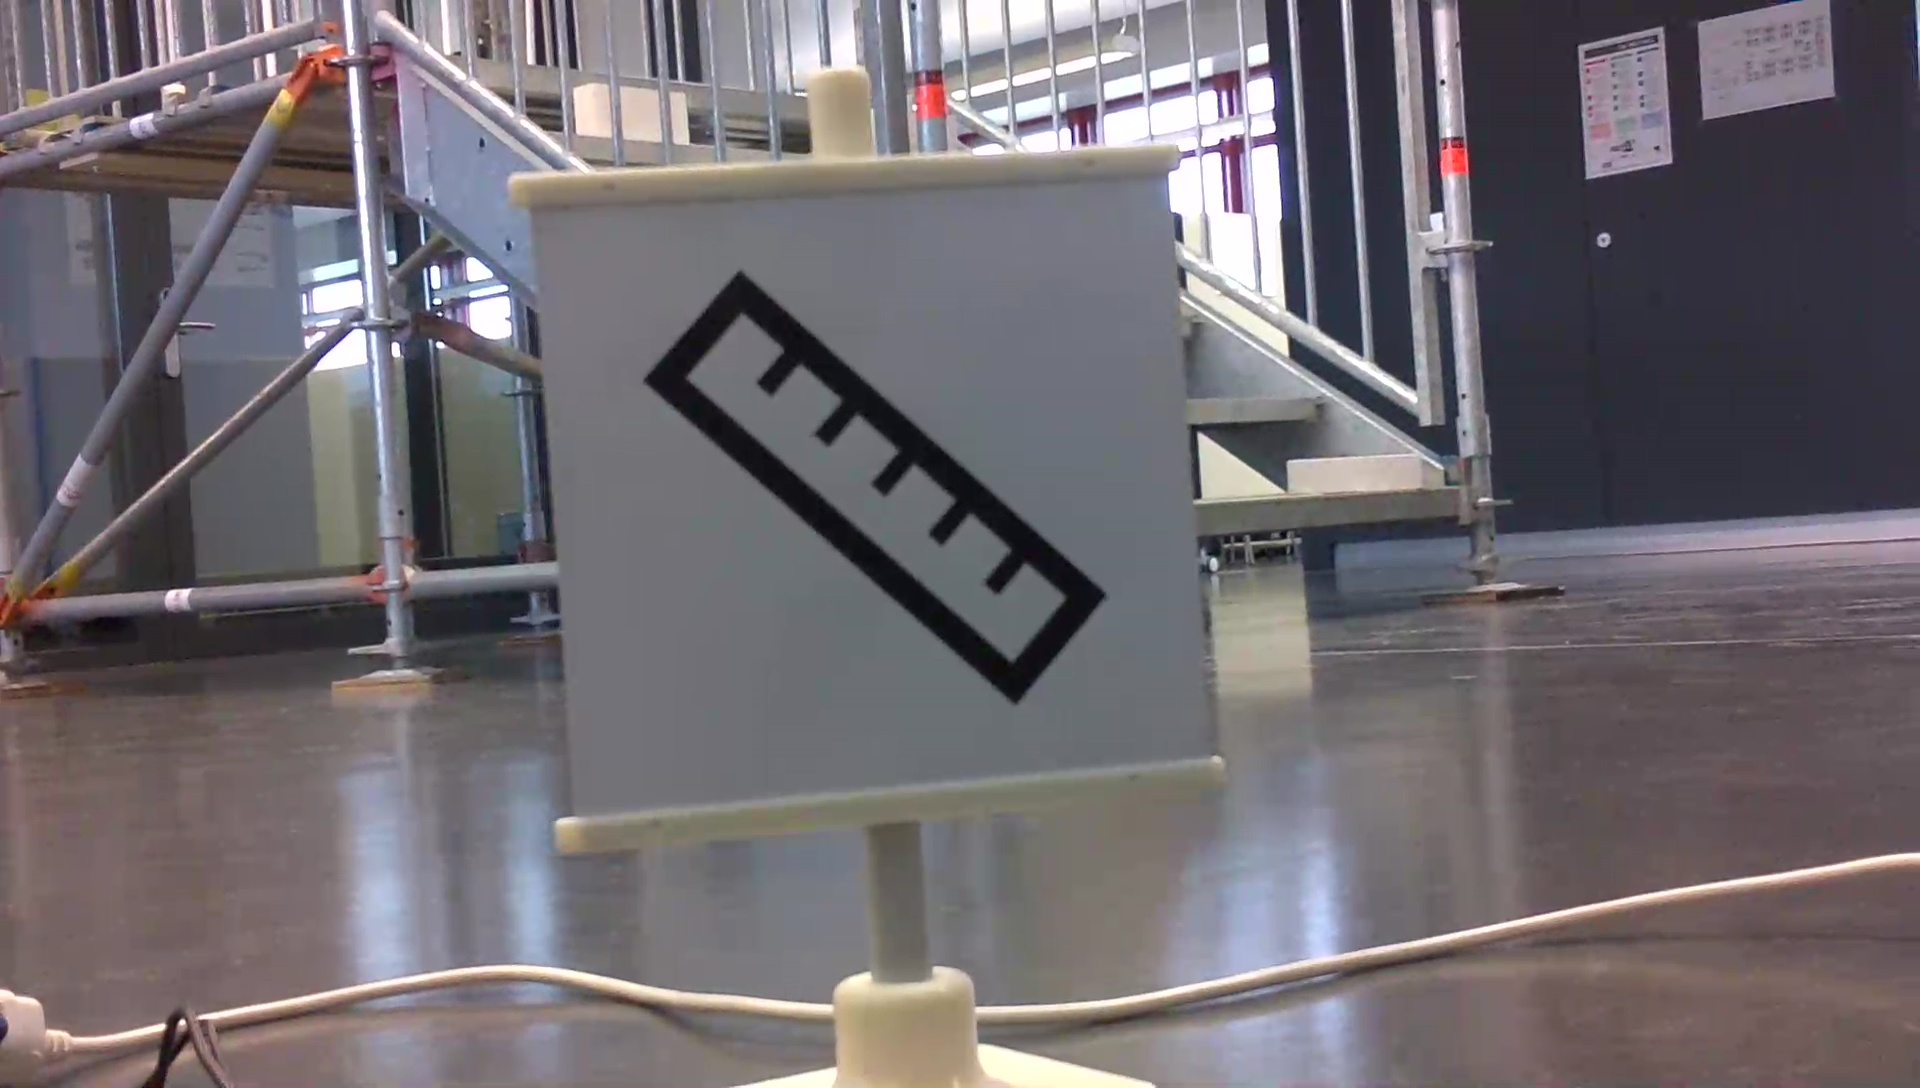ruler: (632, 251, 1118, 710)
